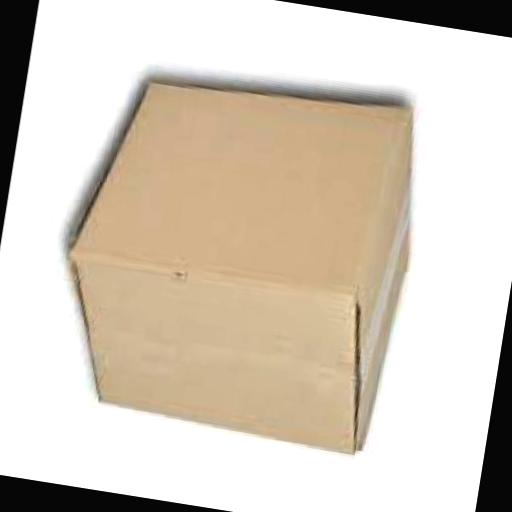cardboard: (46, 53, 434, 454)
